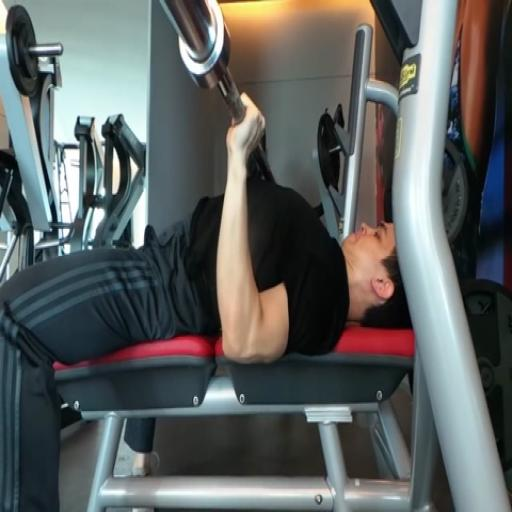exercise: (0, 88, 412, 511)
